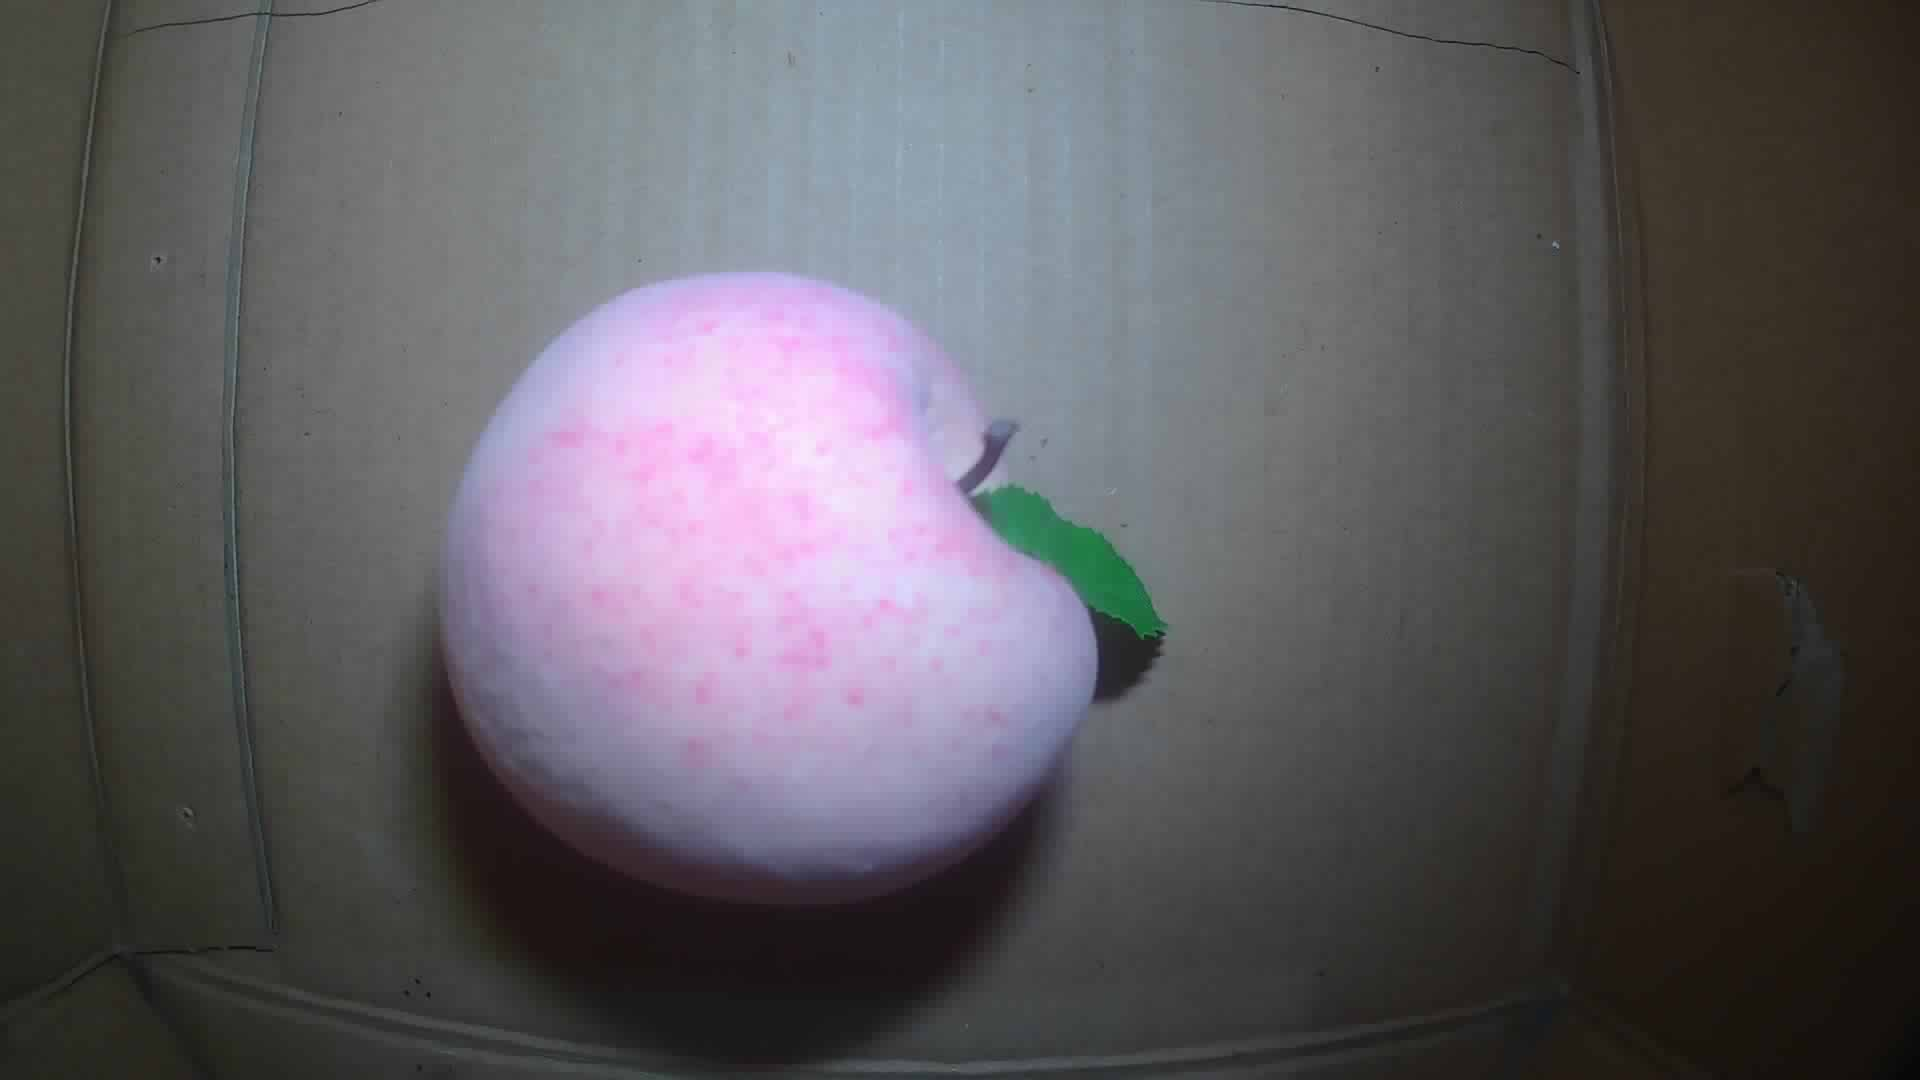peach: (434, 272, 1170, 909)
